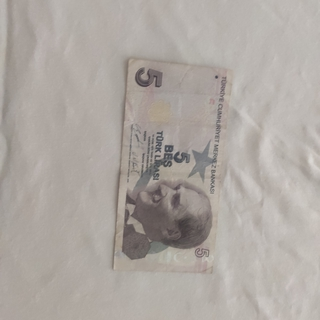5TLFront: (112, 56, 232, 276)
